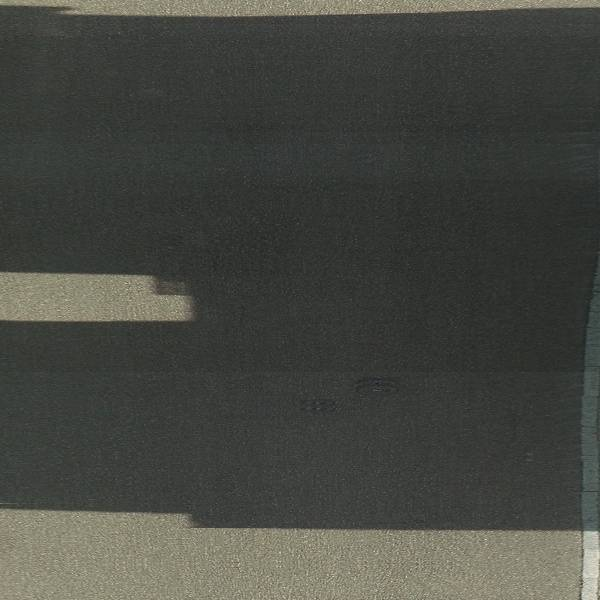road_damage: (288, 369, 410, 417)
